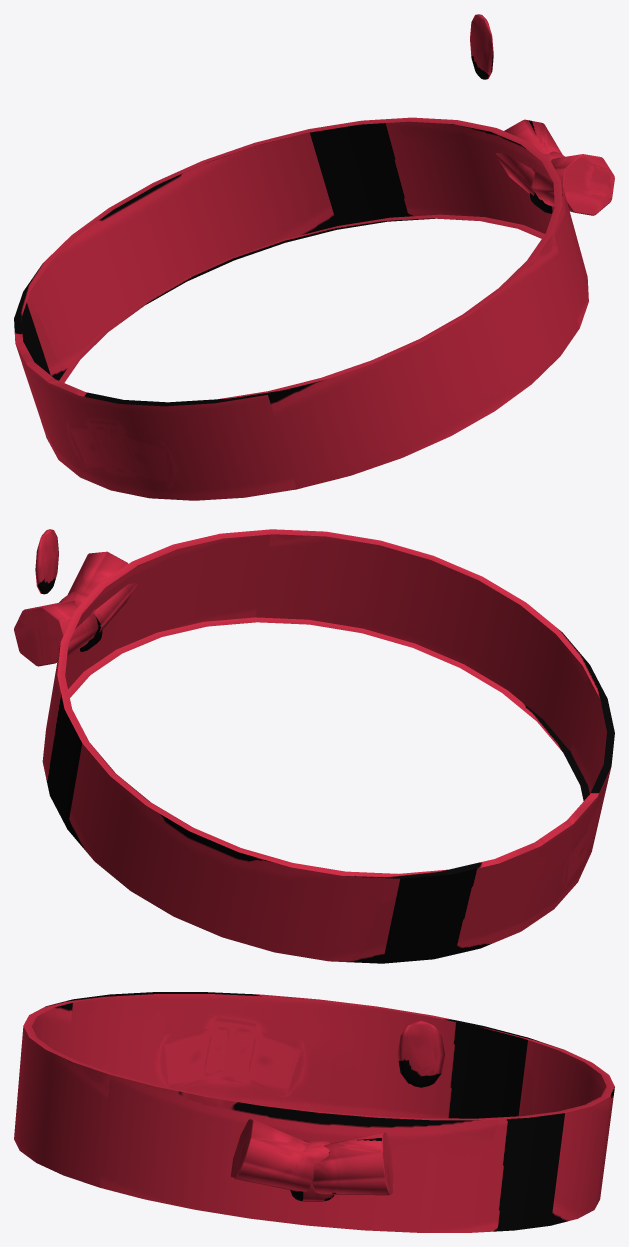
The model's file is Mascarada_Sombrero_Cofradia.fbx.
3 views of the same model, one above another, from view 1: azimuth 30°, elevation 25°; view 2: azimuth 150°, elevation 25°; view 3: azimuth 270°, elevation 25° (orthographic). The views are drawn at different scales.
Visible parts, largest first — view 1: Mascarada_Sombrero_Cofradia; view 2: Mascarada_Sombrero_Cofradia; view 3: Mascarada_Sombrero_Cofradia.
Part boxes in pixels (bbox=[...]): Mascarada_Sombrero_Cofradia: bbox=[14, 14, 614, 500]; Mascarada_Sombrero_Cofradia: bbox=[14, 529, 614, 963]; Mascarada_Sombrero_Cofradia: bbox=[14, 992, 614, 1232].
Bounding box in the file's own units: 1.09 × 0.6168 × 1.02.
